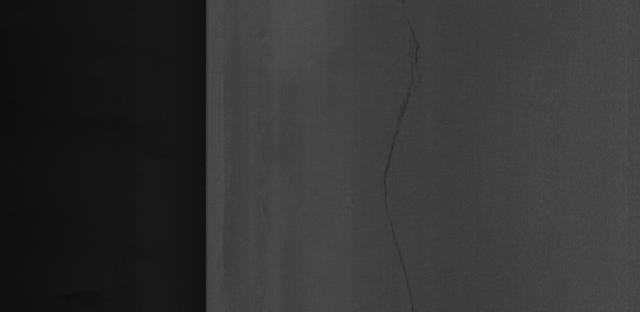water_spot: (375, 16, 448, 286)
